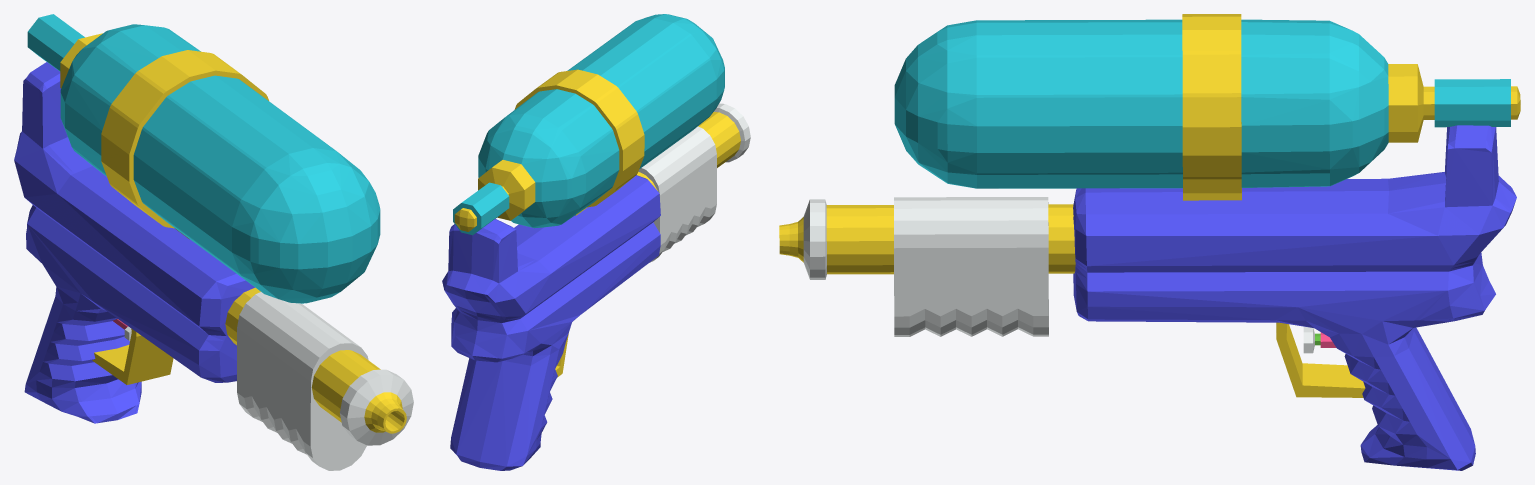
Rendered from WaterGun_01.fbx.
The picture shows the model from 3 angles, left to right: view 1: azimuth 30°, elevation 25°; view 2: azimuth 150°, elevation 25°; view 3: azimuth 270°, elevation 25°; orthographic projection. The views are drawn at different scales.
Parts seen in each view (by area): view 1: Watergun9; view 2: Watergun9; view 3: Watergun9.
Boxes of the visible parts, box(x1,y1,x2,y2) form: Watergun9: box(14, 14, 413, 470); Watergun9: box(442, 14, 750, 470); Watergun9: box(779, 14, 1520, 470).
Bounding box in the file's own units: 9.07 × 24.43 × 37.82.
